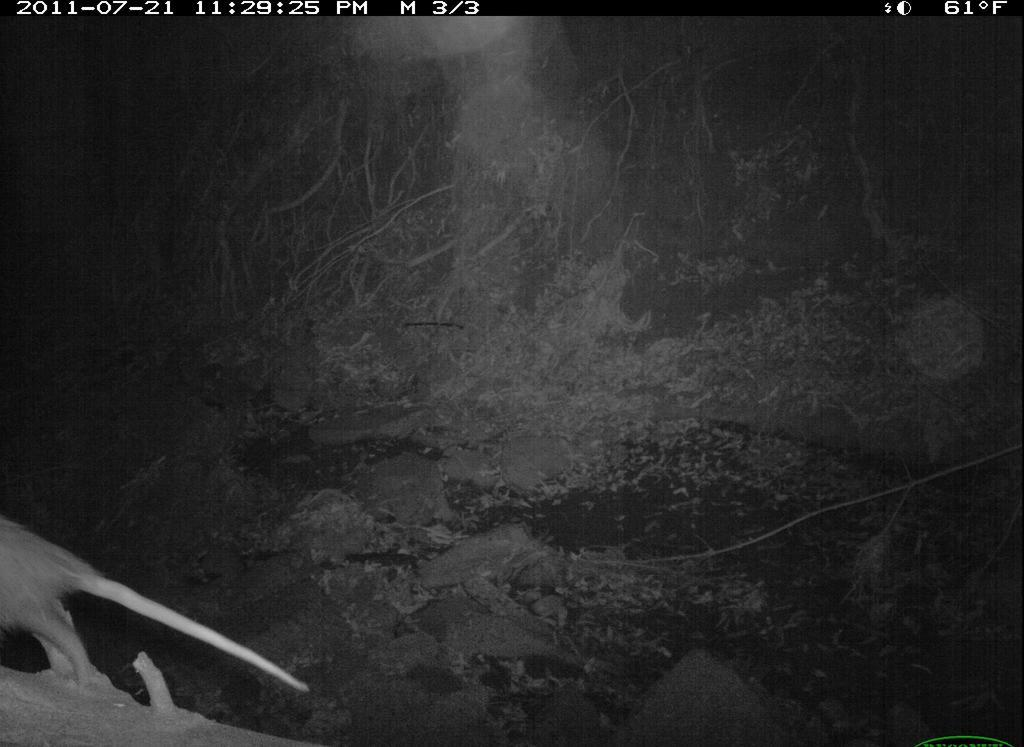opossum: (1, 511, 319, 743)
